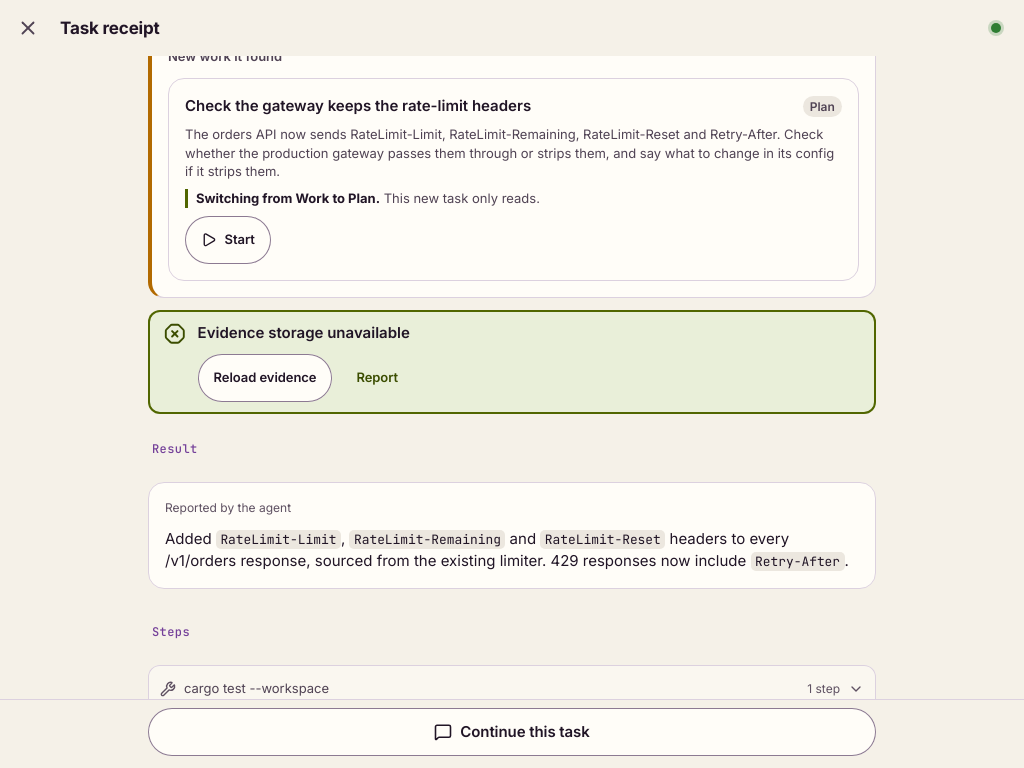
Test: real evidence loading failures retain the stop notice and a working retry
(page scrolled)
Click the button "Reload evidence" at (265, 378), box [198,354,332,402]
Wait 600 ms
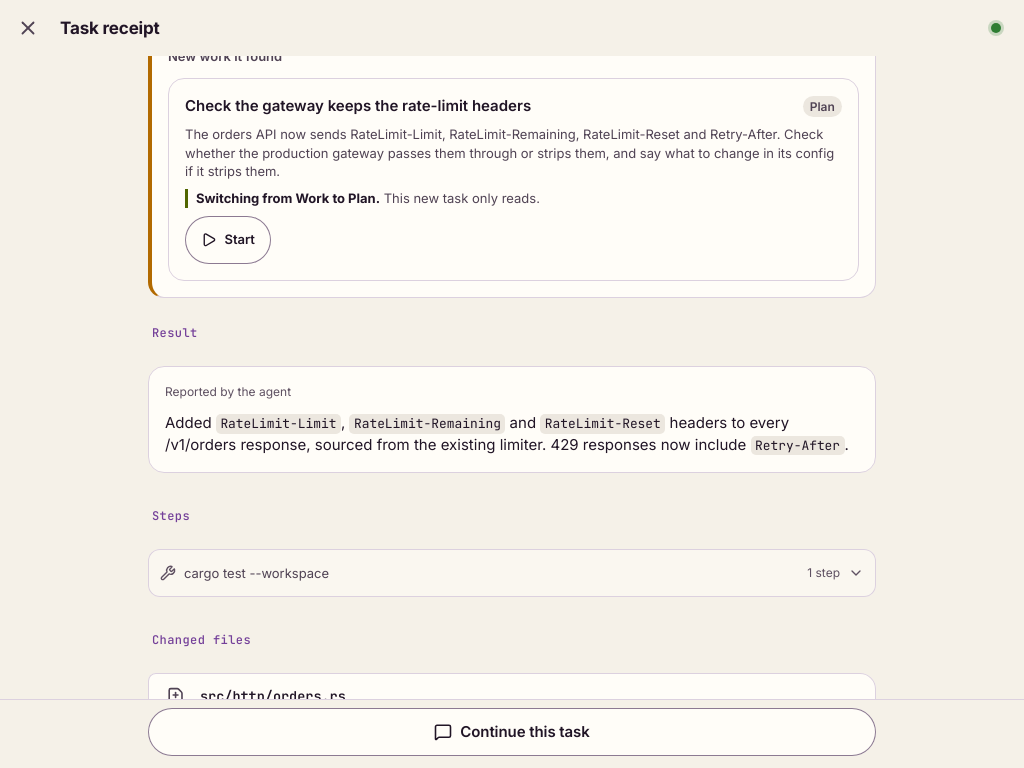
Now the text "Evidence storage unavailable" is gone
